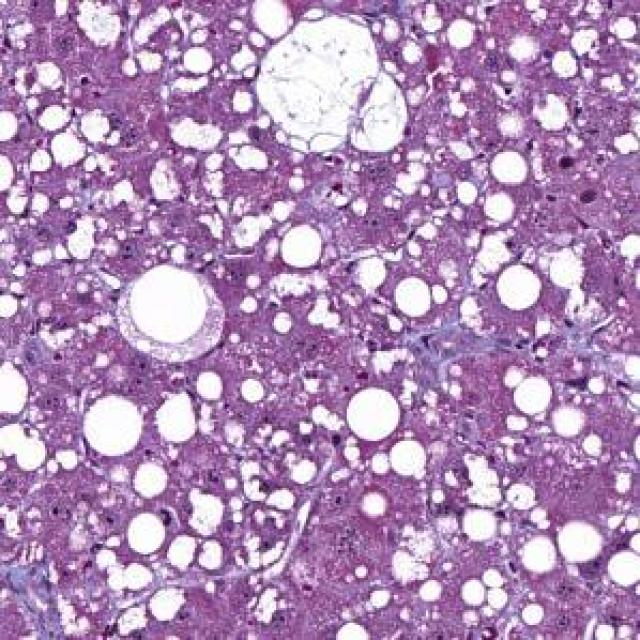fibrosis: (411, 325, 499, 398), (0, 554, 60, 630)
